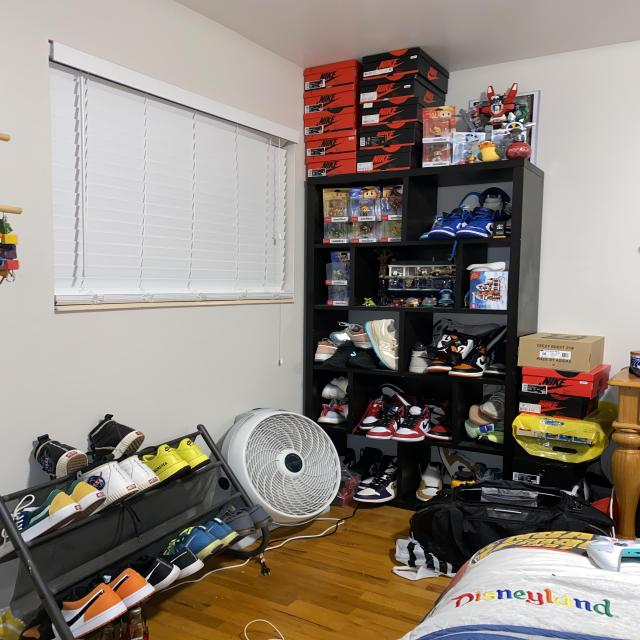shoe: (19, 570, 155, 638), (0, 479, 106, 547), (80, 456, 160, 509), (140, 437, 212, 482), (160, 519, 240, 559), (126, 548, 206, 586), (88, 412, 145, 461), (427, 334, 487, 380), (32, 434, 90, 480), (429, 208, 497, 242), (352, 454, 400, 502), (363, 319, 400, 371), (213, 504, 274, 534), (437, 446, 483, 482), (366, 403, 404, 441), (391, 405, 431, 441), (418, 458, 444, 504)
